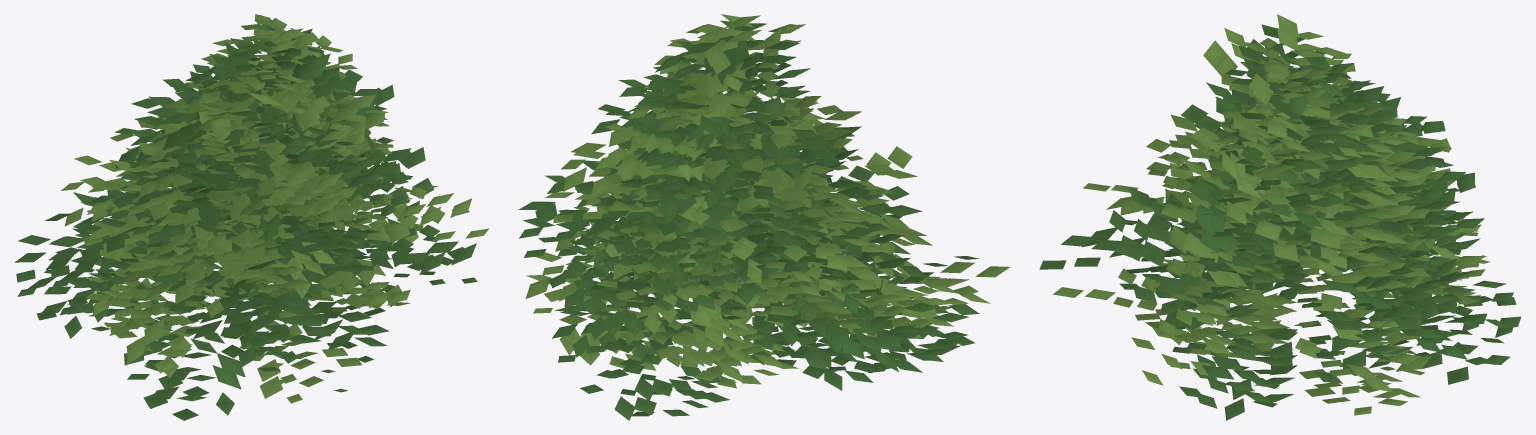
Rendered from frontier-foliage.glb.
The picture shows the model from 3 angles, left to right: view 1: azimuth 30°, elevation 25°; view 2: azimuth 150°, elevation 25°; view 3: azimuth 270°, elevation 25°; orthographic projection. The views are drawn at different scales.
Visible parts, largest first — view 1: asset__tree__highlands__2__near_LeafTips_leafDark, asset__tree__highlands__2__near_LeafTips_leaf, asset__tree__highlands__1__near_LeafTips_leaf, asset__tree__highlands__3__near_LeafTips_leafDark, asset__tree__highlands__1__near_LeafTips_leafDark, asset__tree__desert__2__near_LeafTips_leaf, asset__tree__desert__1__near_LeafTips_leaf, asset__tree__desert__2__near_LeafTips_leafDark, asset__tree__desert__1__near_LeafTips_leafDark, asset__tree__desert__3__near_LeafTips_leafDark, asset__tree__highlands__0__near_LeafTips_leafDark, asset__tree__highlands__0__near_LeafTips_leaf (+4 smaller); view 2: asset__tree__highlands__2__near_LeafTips_leafDark, asset__tree__highlands__2__near_LeafTips_leaf, asset__tree__highlands__1__near_LeafTips_leaf, asset__tree__highlands__1__near_LeafTips_leafDark, asset__tree__highlands__0__near_LeafTips_leafDark, asset__tree__highlands__3__near_LeafTips_leaf, asset__tree__desert__2__near_LeafTips_leafDark, asset__tree__highlands__3__near_LeafTips_leafDark, asset__tree__highlands__0__near_LeafTips_leaf, asset__tree__desert__1__near_LeafTips_leafDark, asset__tree__desert__2__near_LeafTips_leaf, asset__tree__desert__1__near_LeafTips_leaf (+4 smaller); view 3: asset__tree__highlands__2__near_LeafTips_leafDark, asset__tree__highlands__2__near_LeafTips_leaf, asset__tree__highlands__3__near_LeafTips_leaf, asset__tree__highlands__1__near_LeafTips_leaf, asset__tree__highlands__3__near_LeafTips_leafDark, asset__tree__highlands__0__near_LeafTips_leafDark, asset__tree__highlands__1__near_LeafTips_leafDark, asset__tree__desert__2__near_LeafTips_leafDark, asset__tree__desert__3__near_LeafTips_leafDark, asset__tree__desert__2__near_LeafTips_leaf, asset__tree__desert__3__near_LeafTips_leaf, asset__tree__desert__1__near_LeafTips_leaf (+4 smaller).
Boxes of the visible parts, x1=… form: asset__tree__highlands__2__near_LeafTips_leafDark: x1=15, y1=64, x2=434, y2=363; asset__tree__highlands__2__near_LeafTips_leaf: x1=61, y1=58, x2=489, y2=373; asset__tree__highlands__1__near_LeafTips_leaf: x1=87, y1=14, x2=393, y2=298; asset__tree__highlands__3__near_LeafTips_leafDark: x1=75, y1=134, x2=477, y2=420; asset__tree__highlands__1__near_LeafTips_leafDark: x1=120, y1=15, x2=405, y2=293; asset__tree__desert__2__near_LeafTips_leaf: x1=88, y1=79, x2=455, y2=350; asset__tree__desert__1__near_LeafTips_leaf: x1=110, y1=28, x2=365, y2=279; asset__tree__desert__2__near_LeafTips_leafDark: x1=48, y1=88, x2=408, y2=342; asset__tree__desert__1__near_LeafTips_leafDark: x1=146, y1=38, x2=384, y2=274; asset__tree__desert__3__near_LeafTips_leafDark: x1=98, y1=137, x2=445, y2=398; asset__tree__highlands__0__near_LeafTips_leafDark: x1=44, y1=98, x2=419, y2=371; asset__tree__highlands__0__near_LeafTips_leaf: x1=93, y1=85, x2=383, y2=377; asset__tree__highlands__2__near_LeafTips_leafDark: x1=518, y1=62, x2=968, y2=373; asset__tree__highlands__2__near_LeafTips_leaf: x1=545, y1=68, x2=1009, y2=326; asset__tree__highlands__1__near_LeafTips_leaf: x1=636, y1=14, x2=888, y2=299; asset__tree__highlands__1__near_LeafTips_leafDark: x1=618, y1=20, x2=922, y2=312; asset__tree__highlands__0__near_LeafTips_leafDark: x1=558, y1=87, x2=915, y2=390; asset__tree__highlands__3__near_LeafTips_leaf: x1=525, y1=120, x2=954, y2=370; asset__tree__desert__2__near_LeafTips_leafDark: x1=555, y1=80, x2=940, y2=351; asset__tree__highlands__3__near_LeafTips_leafDark: x1=552, y1=157, x2=979, y2=420; asset__tree__highlands__0__near_LeafTips_leaf: x1=585, y1=77, x2=968, y2=388; asset__tree__desert__1__near_LeafTips_leafDark: x1=640, y1=40, x2=891, y2=279; asset__tree__desert__2__near_LeafTips_leaf: x1=574, y1=81, x2=975, y2=303; asset__tree__desert__1__near_LeafTips_leaf: x1=658, y1=28, x2=872, y2=281; asset__tree__highlands__2__near_LeafTips_leafDark: x1=1039, y1=82, x2=1484, y2=383; asset__tree__highlands__2__near_LeafTips_leaf: x1=1083, y1=74, x2=1455, y2=375; asset__tree__highlands__3__near_LeafTips_leaf: x1=1052, y1=133, x2=1490, y2=415; asset__tree__highlands__1__near_LeafTips_leaf: x1=1120, y1=14, x2=1421, y2=262; asset__tree__highlands__3__near_LeafTips_leafDark: x1=1082, y1=169, x2=1521, y2=420; asset__tree__highlands__0__near_LeafTips_leafDark: x1=1061, y1=97, x2=1466, y2=353; asset__tree__highlands__1__near_LeafTips_leafDark: x1=1153, y1=24, x2=1432, y2=299; asset__tree__desert__2__near_LeafTips_leafDark: x1=1074, y1=97, x2=1452, y2=359; asset__tree__desert__3__near_LeafTips_leafDark: x1=1109, y1=198, x2=1486, y2=399; asset__tree__desert__2__near_LeafTips_leaf: x1=1111, y1=88, x2=1425, y2=354; asset__tree__desert__3__near_LeafTips_leaf: x1=1085, y1=162, x2=1458, y2=394; asset__tree__desert__1__near_LeafTips_leaf: x1=1143, y1=28, x2=1398, y2=223.
Size of the model in its own units: 6.34 by 4.84 by 5.94.
